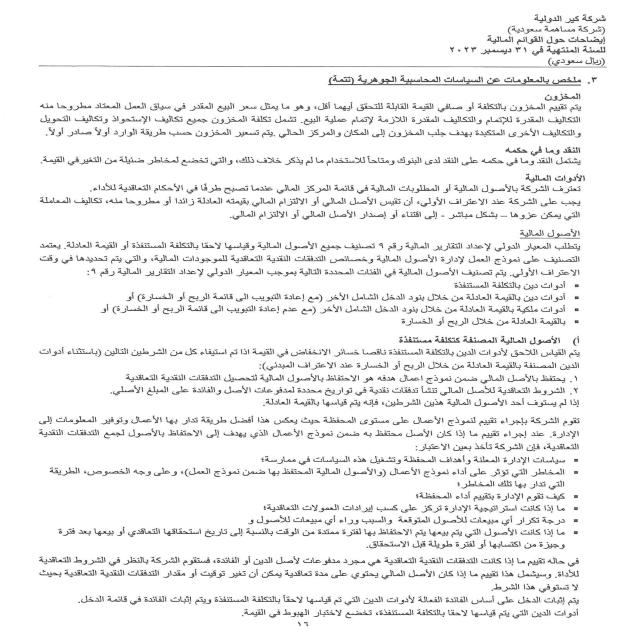notes: (480, 34, 612, 46)
text: (12, 79, 616, 626)
